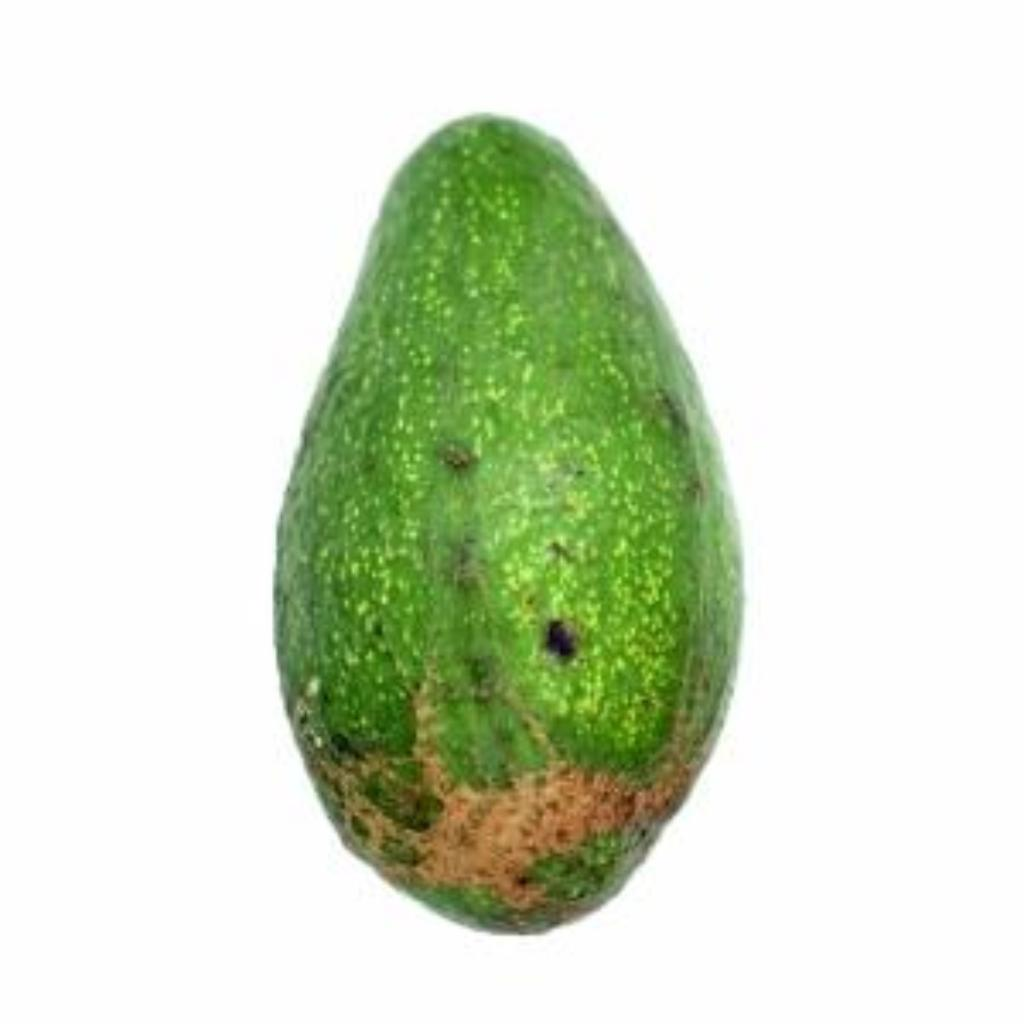cercospora: (258, 106, 756, 929)
